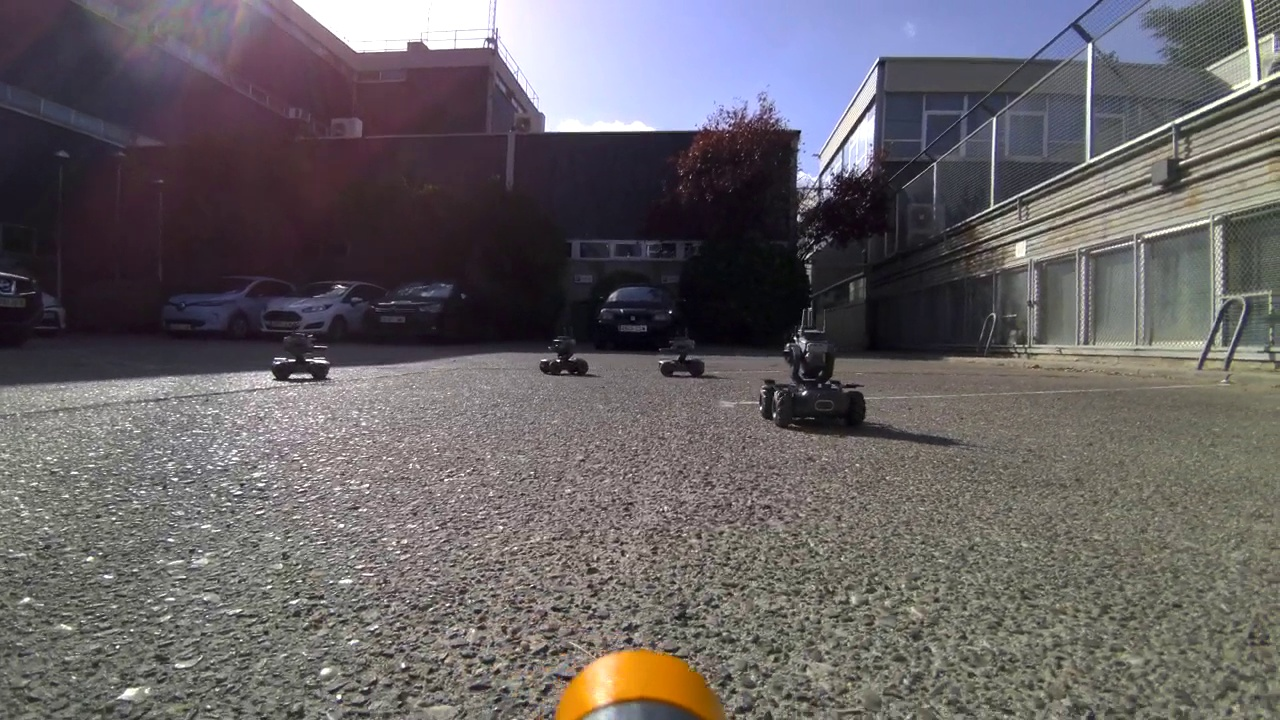robot: (762, 305, 869, 437), (269, 321, 334, 383), (653, 325, 707, 377), (536, 330, 590, 381)
